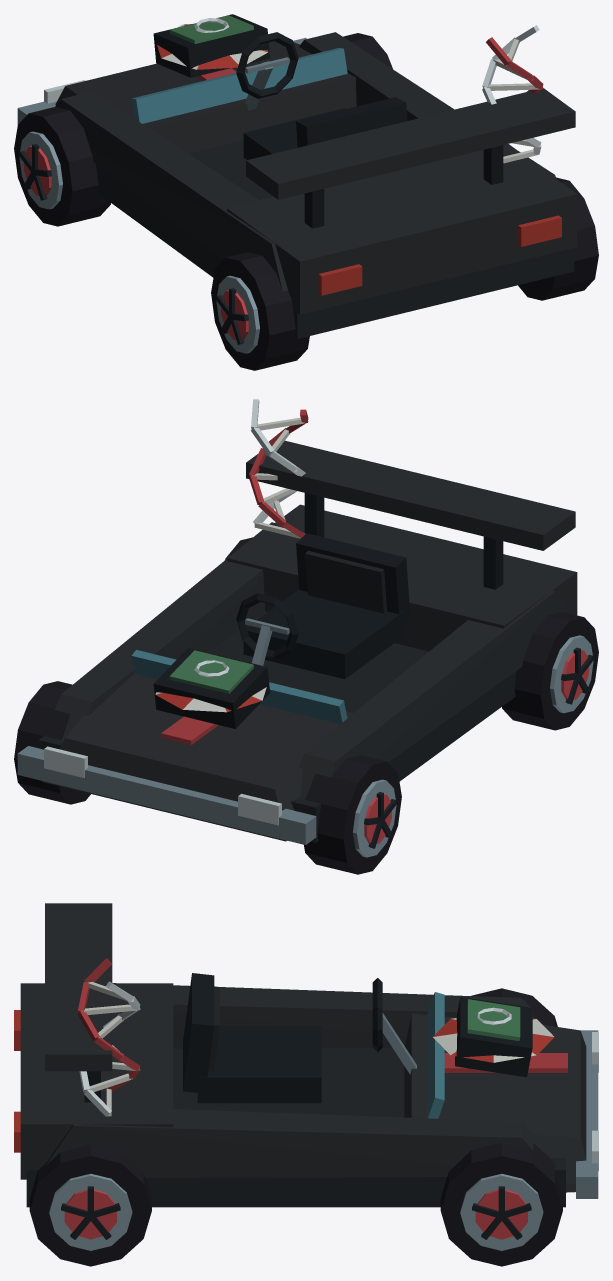
File: kart.glb
3 renders of one model, top to bottom at view 1: azimuth 30°, elevation 25°; view 2: azimuth 150°, elevation 25°; view 3: azimuth 270°, elevation 25°, orthographic. The views are drawn at different scales.
Parts seen in each view (by area): view 1: identity-sports-car-sports-car-road-car-body, wheel-front-left, wheel-rear-left, identity-sports-car-driver-cockpit, identity-sports-car-motif-scanner, wheel-rear-right, identity-sports-car-motif-dna, identity-sports-car-motif-umbrella, wheel-front-right; view 2: identity-sports-car-sports-car-road-car-body, identity-sports-car-driver-cockpit, wheel-front-left, wheel-rear-left, identity-sports-car-motif-scanner, wheel-front-right, identity-sports-car-motif-dna, identity-sports-car-motif-umbrella; view 3: identity-sports-car-sports-car-road-car-body, identity-sports-car-driver-cockpit, wheel-front-right, wheel-rear-right, identity-sports-car-motif-scanner, identity-sports-car-motif-dna, identity-sports-car-motif-umbrella, wheel-front-left.
Boxes of the visible parts, <box> form: identity-sports-car-sports-car-road-car-body: <box>17,32,577,338</box>; wheel-front-left: <box>14,107,110,226</box>; wheel-rear-left: <box>211,252,309,370</box>; identity-sports-car-driver-cockpit: <box>236,32,407,159</box>; identity-sports-car-motif-scanner: <box>153,14,270,77</box>; wheel-rear-right: <box>518,177,598,300</box>; identity-sports-car-motif-dna: <box>482,25,543,163</box>; identity-sports-car-motif-umbrella: <box>157,24,268,69</box>; wheel-front-right: <box>343,33,392,68</box>; identity-sports-car-sports-car-road-car-body: <box>17,440,577,844</box>; identity-sports-car-driver-cockpit: <box>236,533,410,679</box>; wheel-front-left: <box>304,755,401,874</box>; wheel-rear-left: <box>502,612,598,730</box>; identity-sports-car-motif-scanner: <box>153,647,269,728</box>; wheel-front-right: <box>14,681,90,804</box>; identity-sports-car-motif-dna: <box>249,399,308,538</box>; identity-sports-car-motif-umbrella: <box>155,687,266,712</box>; identity-sports-car-sports-car-road-car-body: <box>14,903,598,1207</box>; identity-sports-car-driver-cockpit: <box>183,973,416,1103</box>; wheel-front-right: <box>440,1142,562,1266</box>; wheel-rear-right: <box>29,1144,151,1266</box>; identity-sports-car-motif-scanner: <box>455,996,532,1077</box>; identity-sports-car-motif-dna: <box>77,958,140,1116</box>; identity-sports-car-motif-umbrella: <box>433,1018,554,1062</box>; wheel-front-left: <box>471,988,557,1026</box>.
Bounding box in the file's own units: 2.07 × 1.47 × 2.88.
